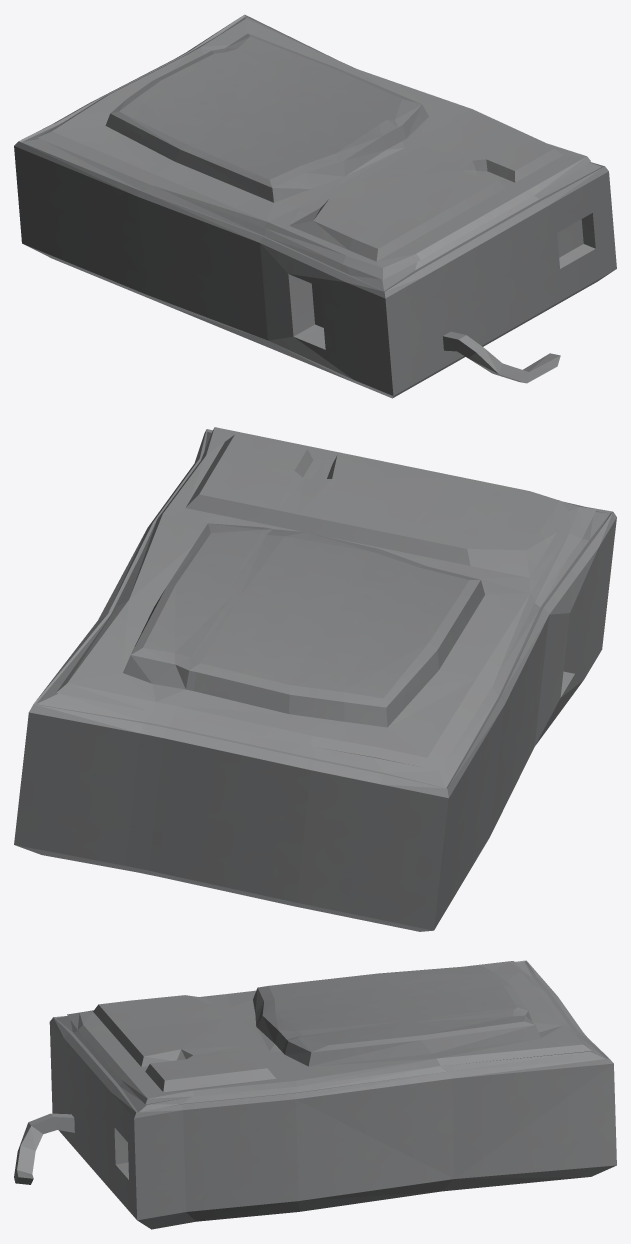
The model's file is ac_unit.obj.
3 renders of one model, top to bottom at view 1: azimuth 30°, elevation 25°; view 2: azimuth 150°, elevation 25°; view 3: azimuth 270°, elevation 25°, orthographic. The views are drawn at different scales.
Visible parts, largest first — view 1: ac_unit_Mesh; view 2: ac_unit_Mesh; view 3: ac_unit_Mesh.
Part boxes in pixels (x1,y1,x2,y2): ac_unit_Mesh: [14, 14, 616, 398]; ac_unit_Mesh: [14, 427, 616, 931]; ac_unit_Mesh: [14, 960, 616, 1229].
Size of the model in its own units: 0.8285 by 0.3344 by 1.12.
